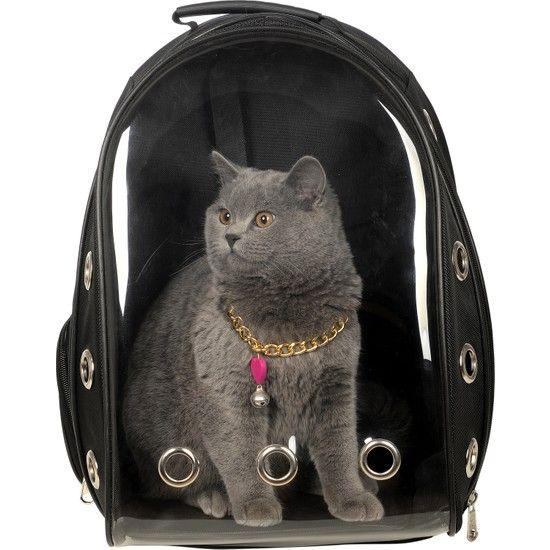kedo: (120, 152, 385, 527)
